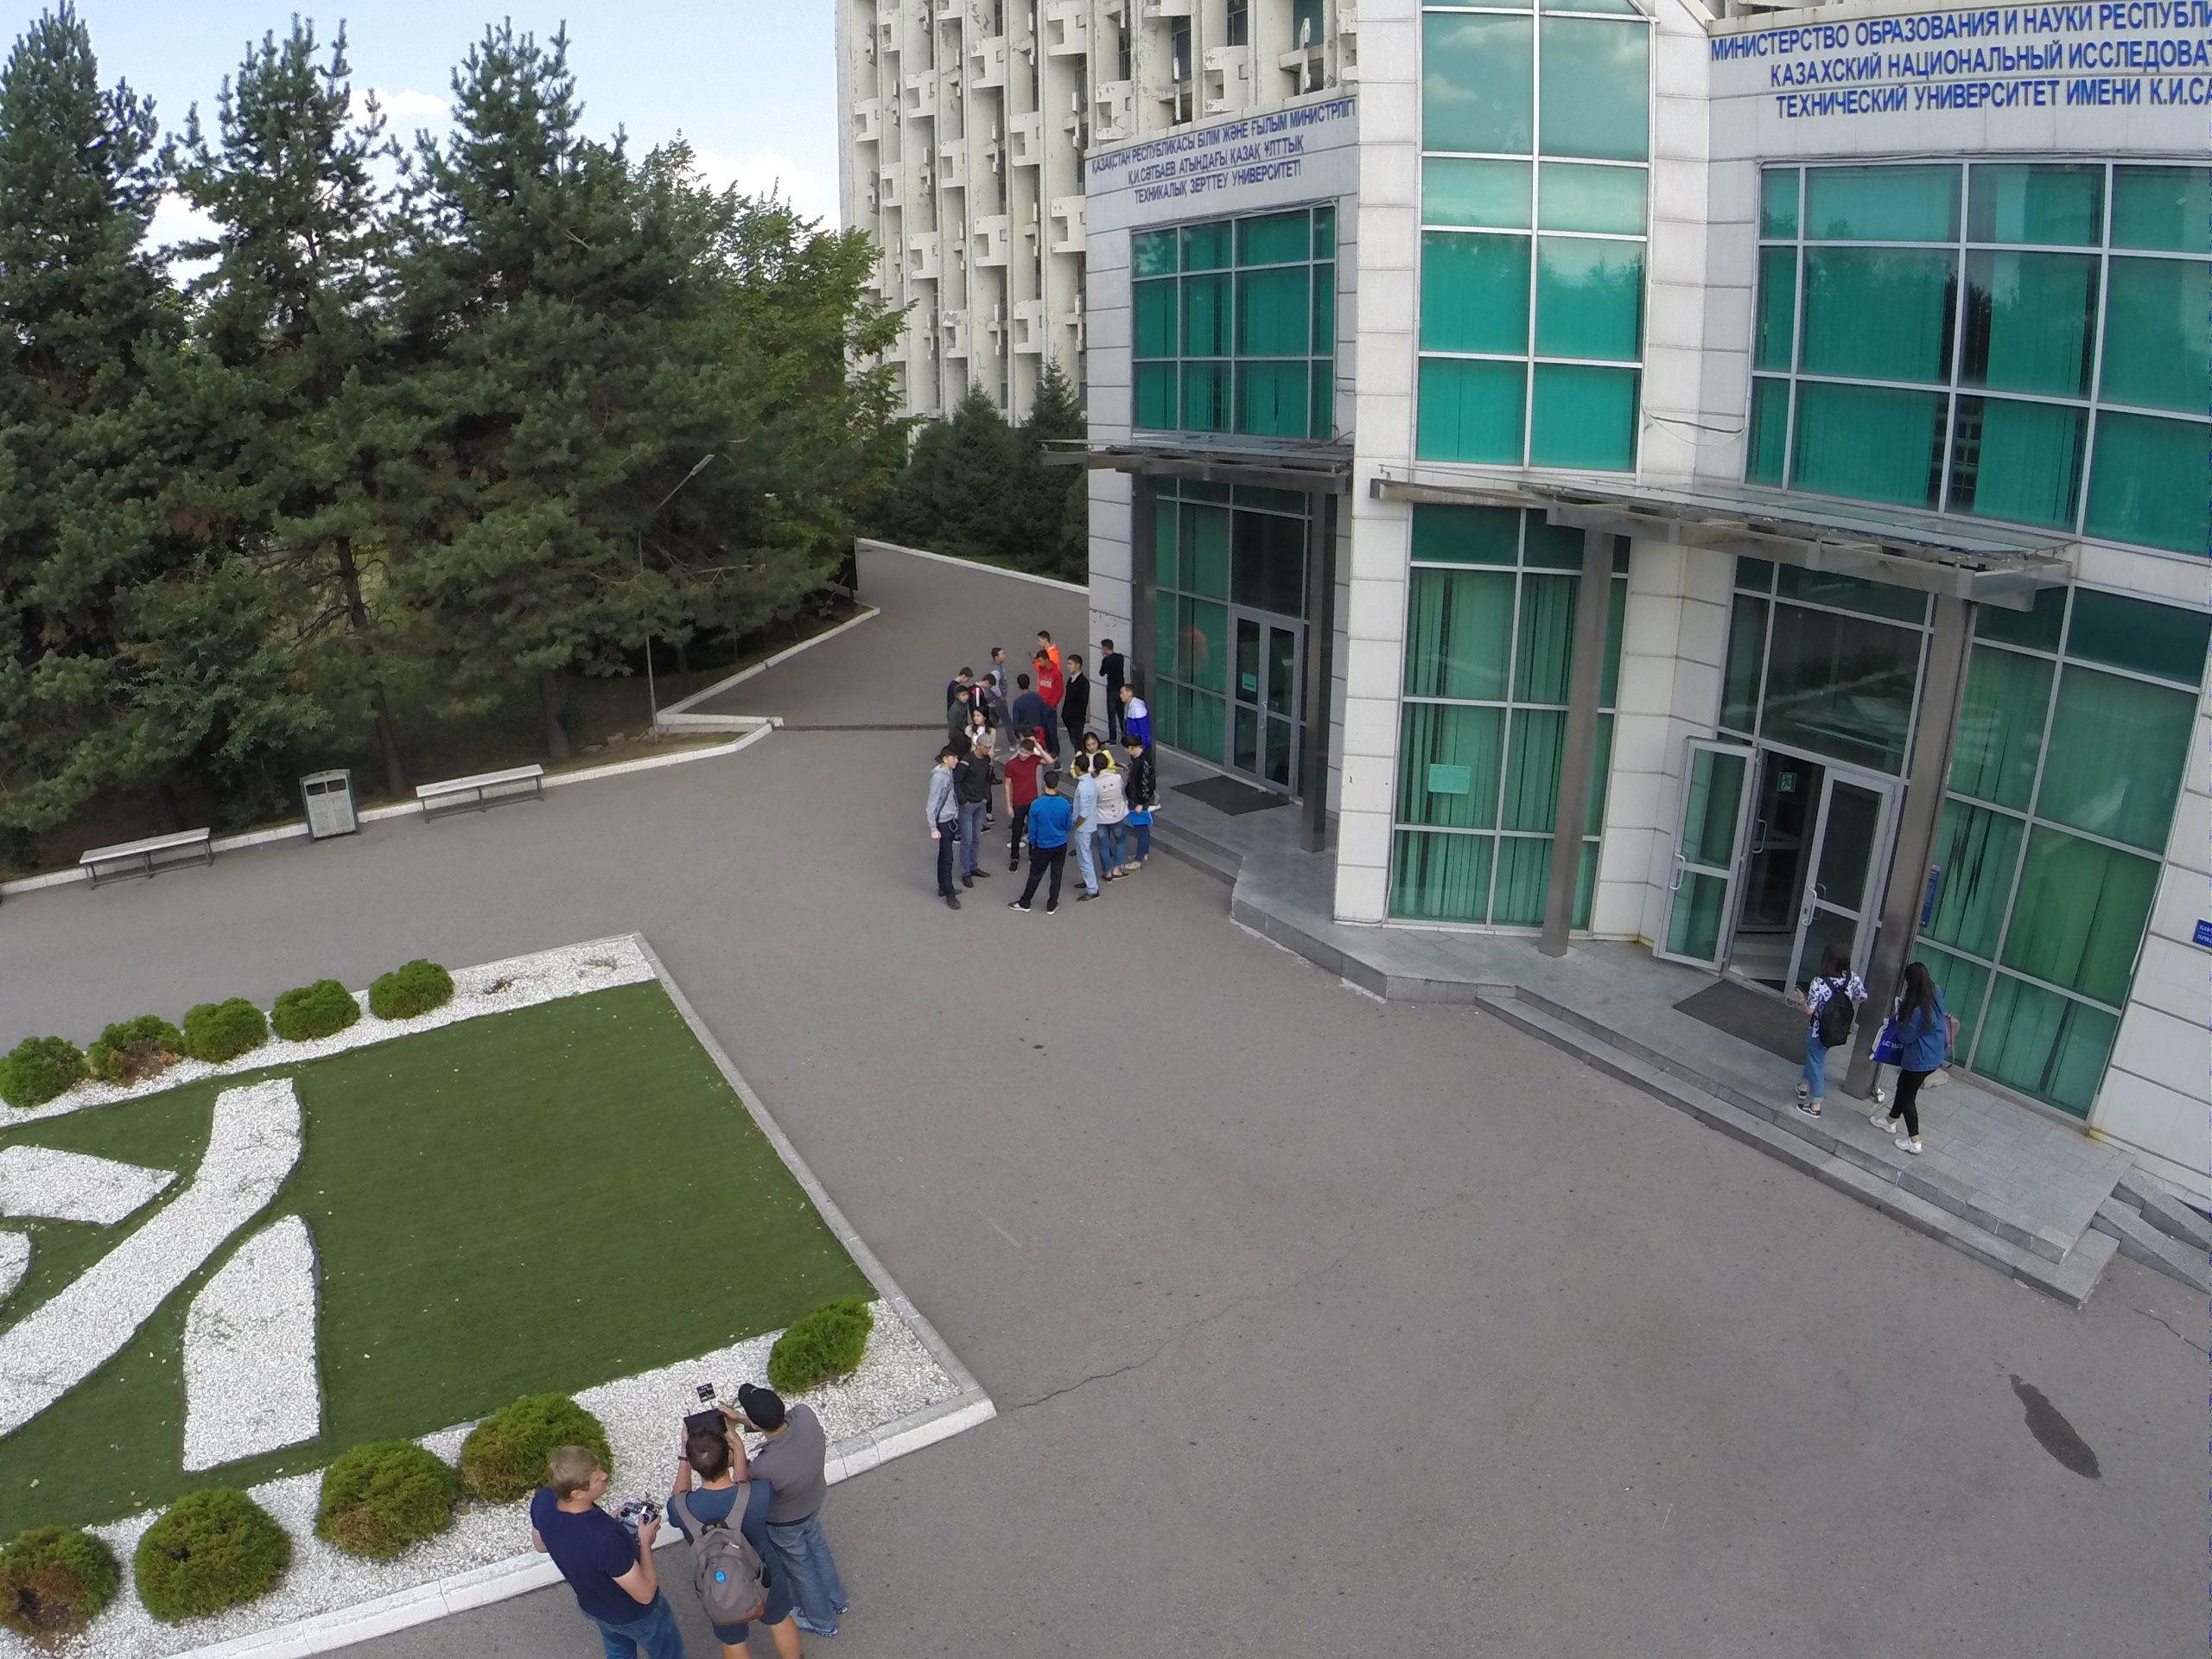person: (528, 1435, 672, 1659), (738, 1371, 853, 1638), (675, 1427, 791, 1659), (1877, 956, 1961, 1159), (1785, 940, 1867, 1118), (1017, 772, 1071, 915), (925, 747, 962, 913), (1007, 738, 1048, 872), (1122, 730, 1158, 872), (1066, 755, 1101, 902), (1091, 757, 1131, 880), (964, 734, 991, 888), (1099, 637, 1127, 740), (1062, 651, 1092, 734), (1011, 673, 1047, 732), (1034, 649, 1062, 706), (1120, 683, 1150, 730), (971, 671, 1001, 720), (946, 687, 967, 743), (1073, 734, 1111, 755), (944, 664, 976, 687), (1037, 630, 1058, 652), (990, 644, 1006, 672)
